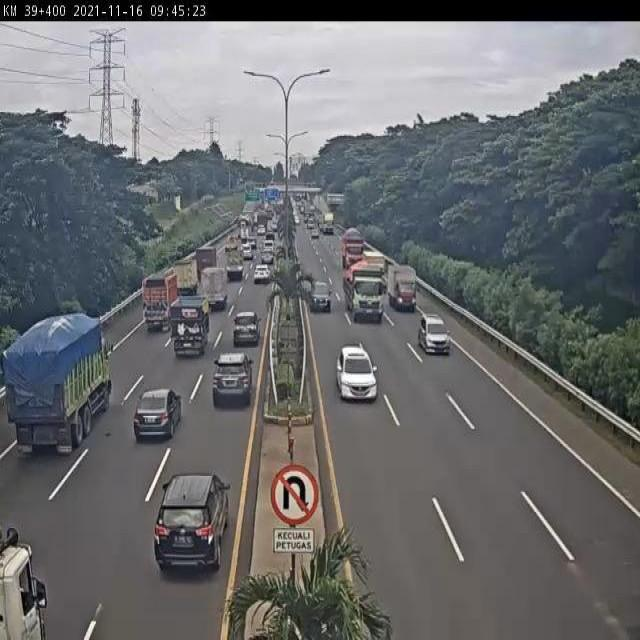car: (155, 478, 233, 570), (133, 386, 183, 446), (334, 344, 378, 401), (210, 354, 254, 406), (419, 316, 452, 355), (233, 306, 261, 346), (305, 278, 333, 314)
small truck: (386, 267, 418, 312), (200, 269, 230, 311), (172, 257, 197, 296)
truck-l-: (6, 315, 112, 452), (343, 263, 385, 324)
truck-m-: (169, 299, 211, 356), (140, 270, 178, 330)
